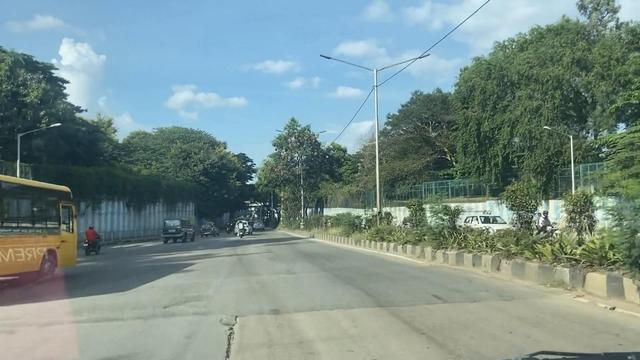RoadDamages: (189, 312, 247, 357)
